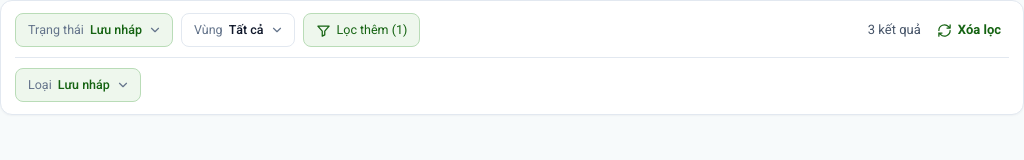
Test: List › AC-N3: thanh lọc có số kết quả; Xóa lọc vô hiệu khi chưa đặt ô nào, bấm thì mọi ô về mặc định
The width and height of the screenshot is (1024, 160).
Earlier steps of the test are not shown.
Check: the button "Lọc thêm (1)" is shown, box top-left (302, 13), bottom-right (420, 47)
Click the button "Xóa lọc" at [969, 30], box top-left (929, 14), bottom-right (1009, 46)
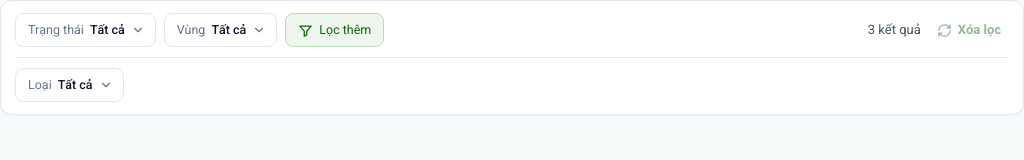
Check: the button "Xóa lọc" is disabled, box top-left (929, 14), bottom-right (1009, 46)
